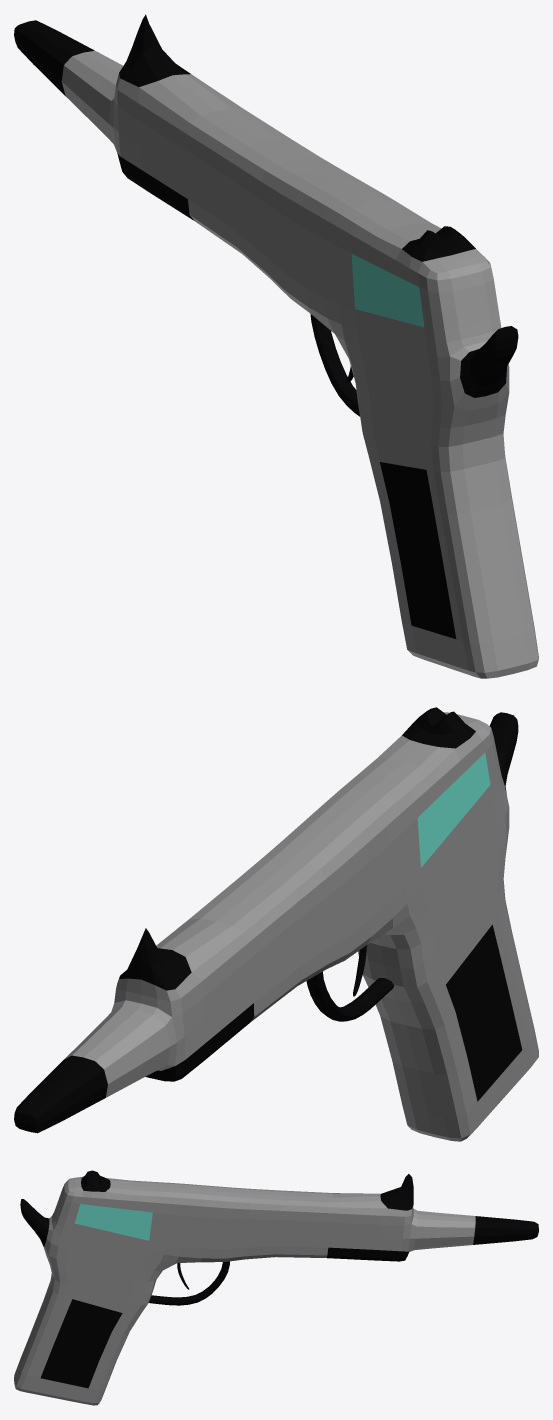
The model's file is Pistol3.fbx.
The picture shows the model from 3 angles, top to bottom: view 1: azimuth 30°, elevation 25°; view 2: azimuth 150°, elevation 25°; view 3: azimuth 270°, elevation 25°; orthographic projection. The views are drawn at different scales.
Visible parts, largest first — view 1: Cube.025; view 2: Cube.025; view 3: Cube.025.
Boxes of the visible parts, x1=… form: Cube.025: x1=14, y1=14, x2=538, y2=678; Cube.025: x1=14, y1=707, x2=538, y2=1141; Cube.025: x1=14, y1=1170, x2=538, y2=1405.
Size of the model in its own units: 37.92 by 232 by 487.
